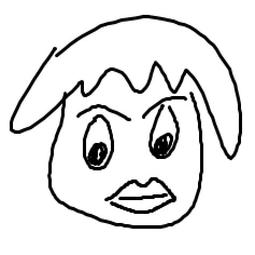cupid_mouth: (103, 176, 179, 217)
eye: (81, 115, 117, 175), (146, 103, 179, 165)
frowning_eyebrow: (74, 101, 135, 121), (141, 95, 188, 120)
